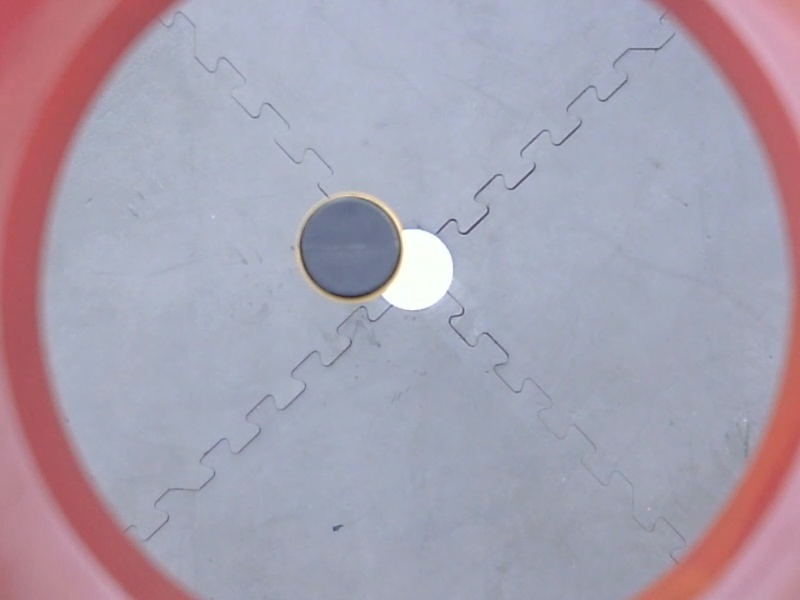tip: (290, 188, 414, 308)
